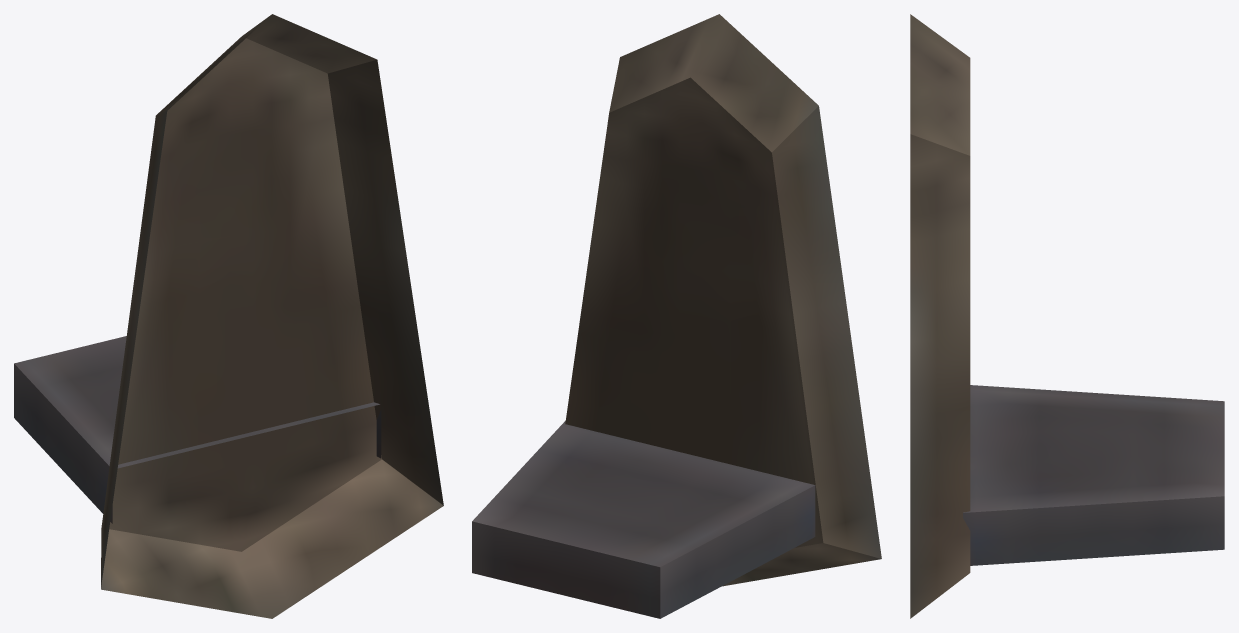
Rendered from candle_stick_2.FBX.
3 renders of one model, left to right at view 1: azimuth 30°, elevation 25°; view 2: azimuth 150°, elevation 25°; view 3: azimuth 270°, elevation 25°, orthographic. The views are drawn at different scales.
Visible parts, largest first — view 1: Object119; view 2: Object119; view 3: Object119.
Part boxes in pixels (bbox=[...]): Object119: bbox=[14, 14, 443, 618]; Object119: bbox=[472, 14, 881, 618]; Object119: bbox=[910, 14, 1224, 618].
Size of the model in its own units: 0.1532 by 0.2582 by 0.1241.
